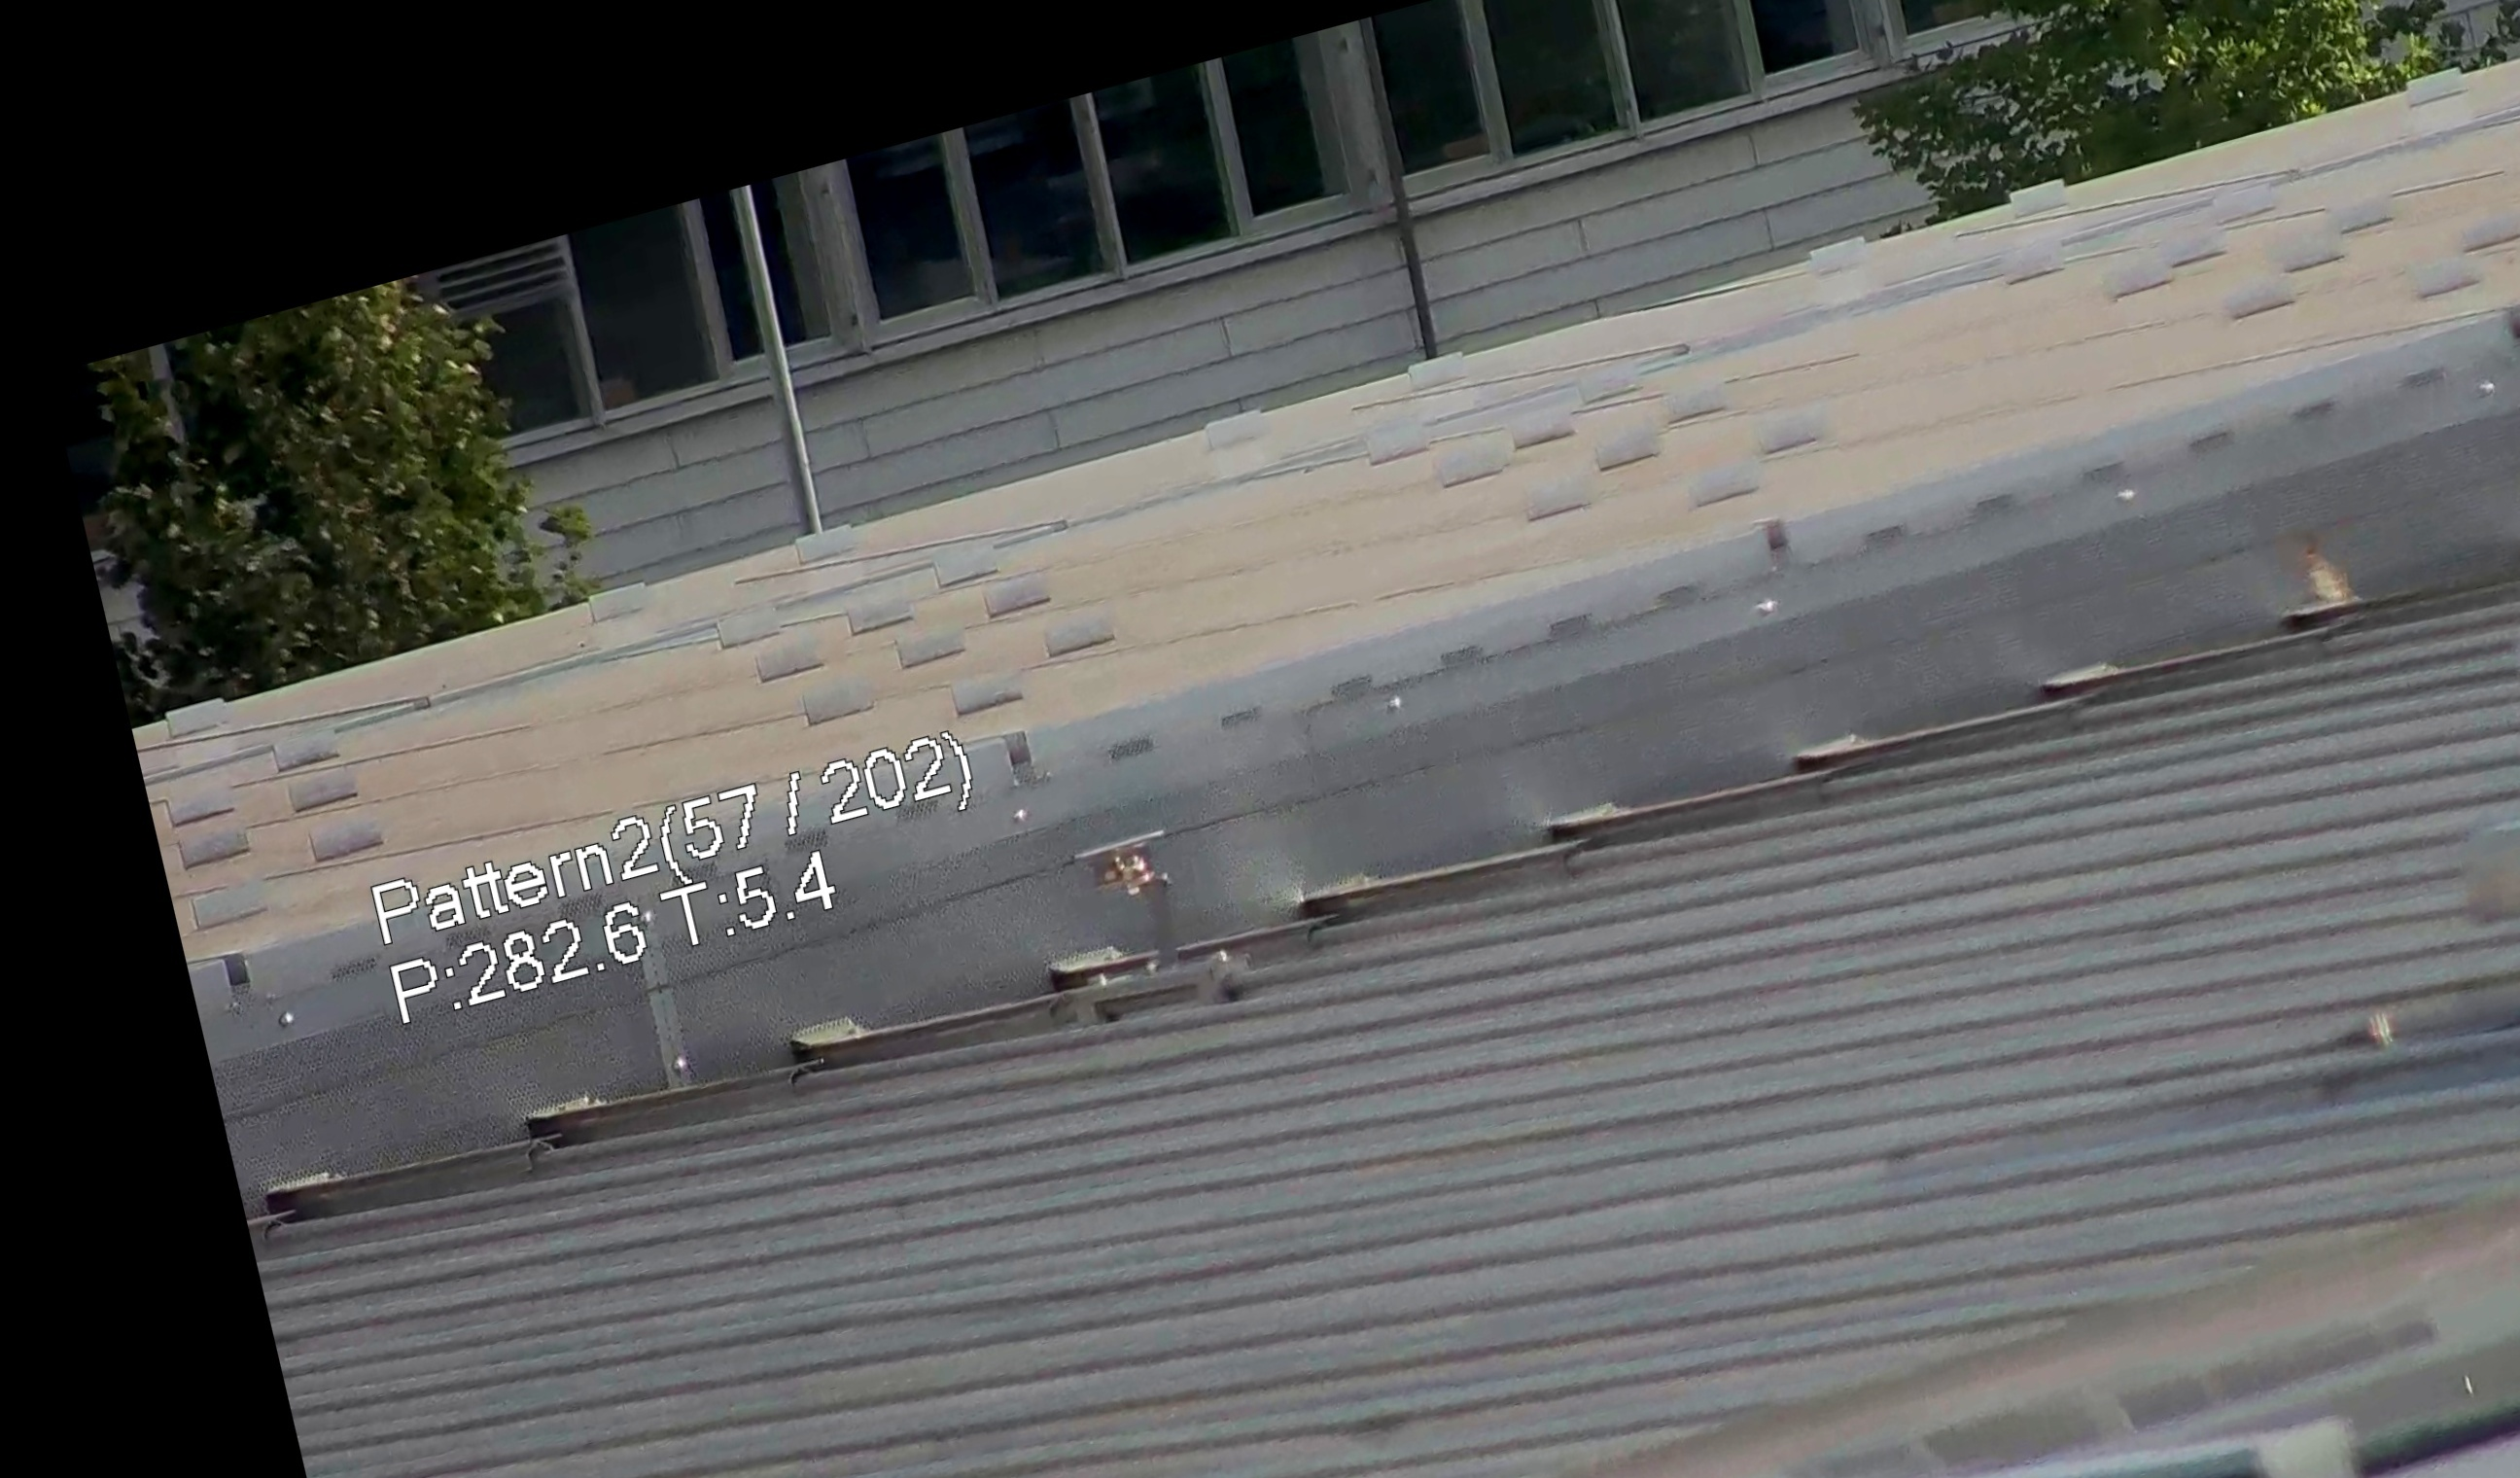Other: (2270, 500, 2376, 630)
